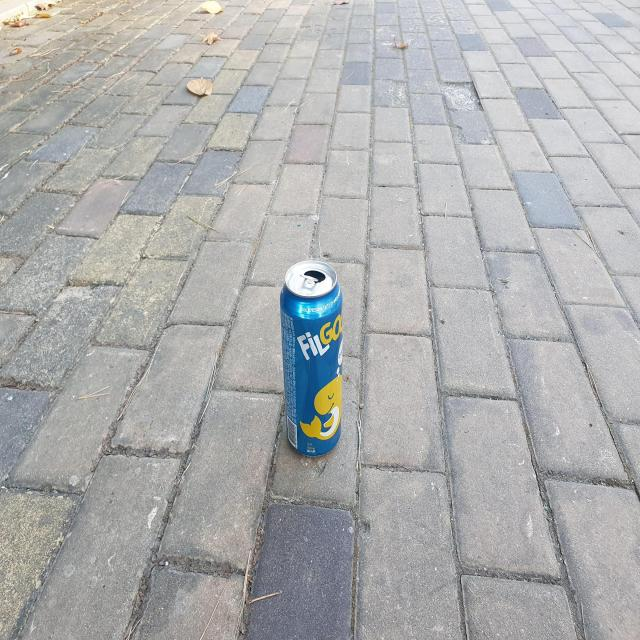can: (280, 260, 343, 456)
